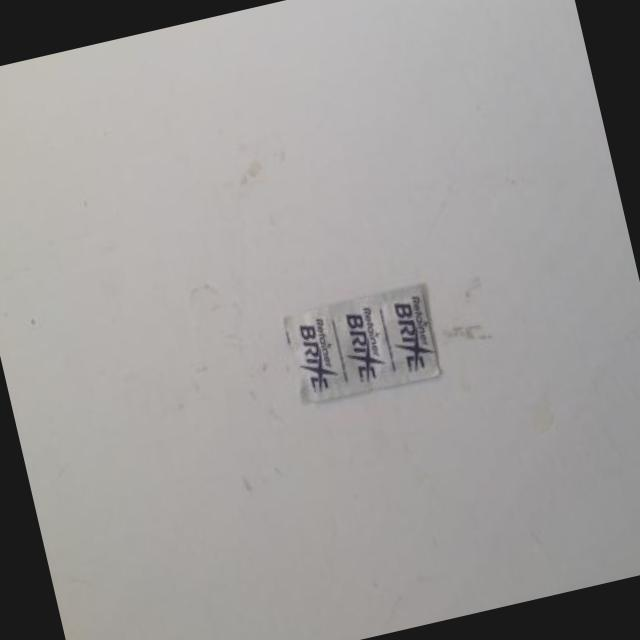Trash: (282, 280, 449, 416)
